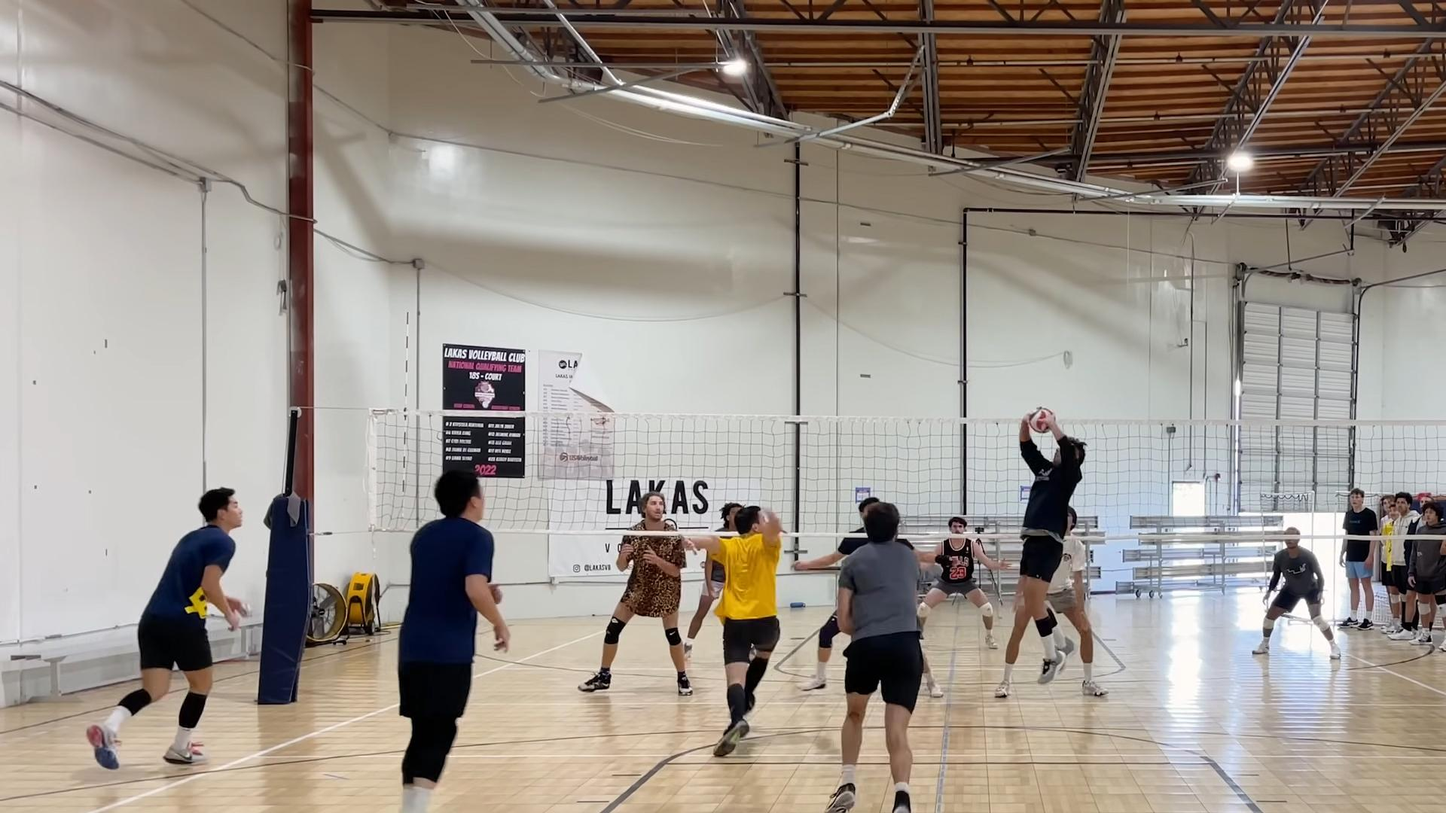Player: (87, 488, 243, 769), (399, 470, 509, 812), (827, 504, 923, 812), (688, 507, 781, 756), (578, 535, 692, 695), (917, 516, 1010, 648), (1252, 527, 1341, 659), (1046, 507, 1108, 696), (684, 552, 725, 659), (801, 609, 840, 690), (801, 612, 839, 690)
Set: (1018, 406, 1087, 686)
ball: (1027, 402, 1057, 436)
